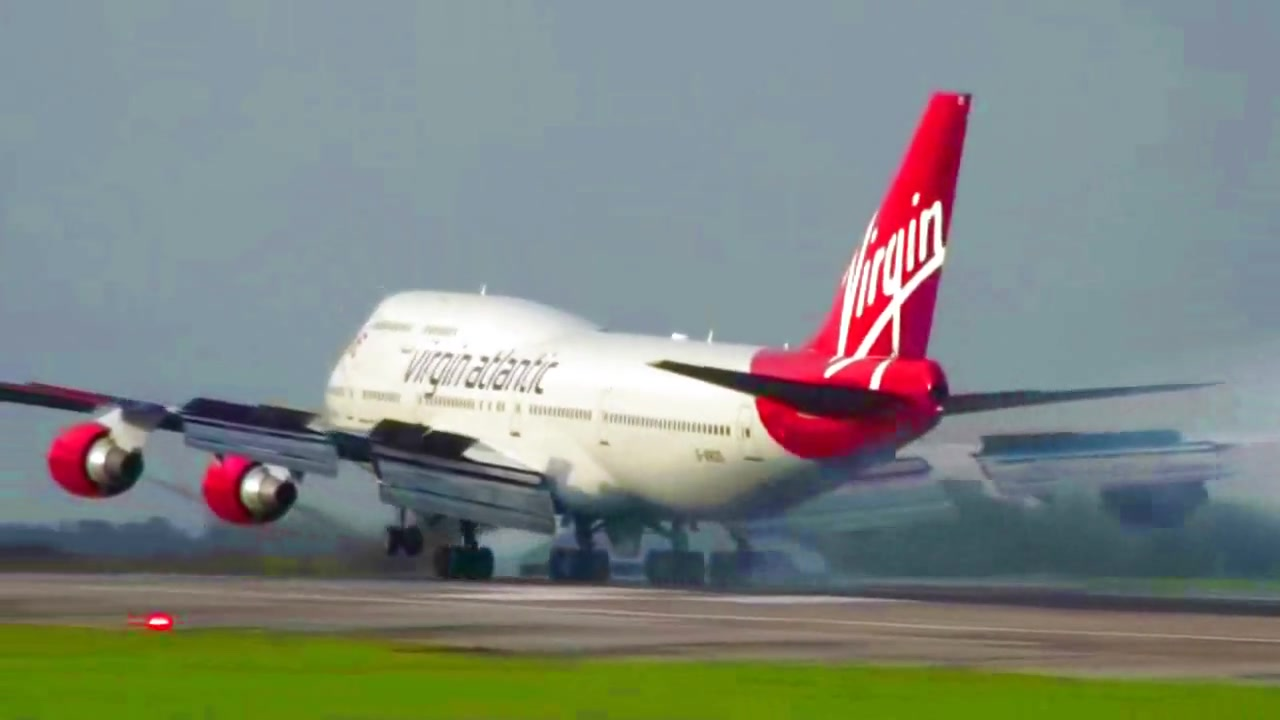aeroplane: (5, 87, 1238, 595)
